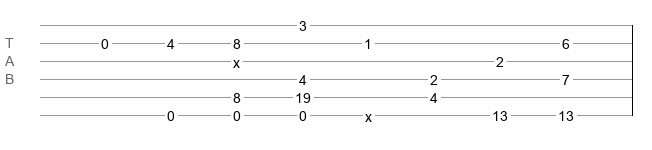0: (101, 36, 109, 46), (167, 108, 175, 118), (233, 108, 241, 118), (299, 108, 307, 118)
1: (364, 36, 372, 46)
13: (492, 108, 508, 118), (558, 108, 574, 118)
19: (295, 90, 311, 100)
2: (430, 72, 438, 82), (496, 54, 504, 64)
3: (299, 18, 307, 28)
4: (167, 36, 175, 46), (299, 72, 307, 82), (430, 90, 438, 100)
6: (562, 36, 570, 46)
7: (562, 72, 570, 82)
8: (233, 90, 241, 100), (233, 36, 241, 46)
x: (233, 55, 240, 63), (365, 109, 372, 117)
